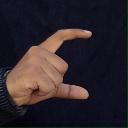hand: (5, 27, 92, 106)
